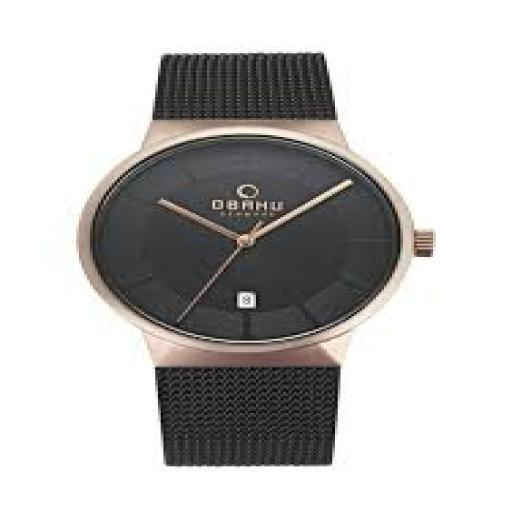KolSaati: (73, 42, 441, 476)
